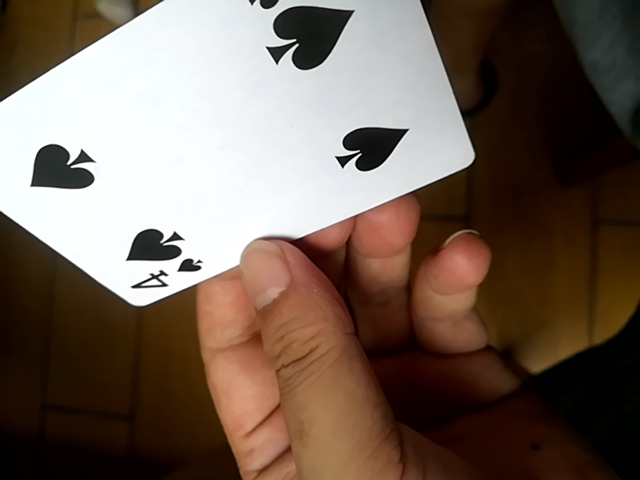ht 4: (0, 1, 475, 308)
